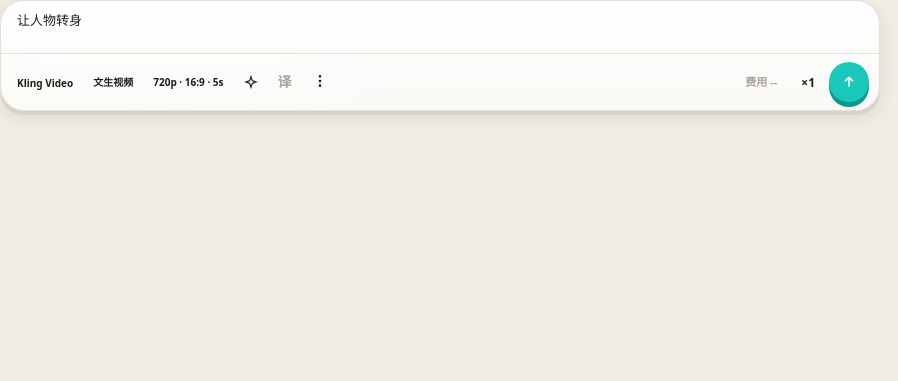
workflow node overlays › disables modes unavailable on the mapped video Provider route
Click the button titled "视频生成方式": [113, 82] box [87, 70, 139, 94]
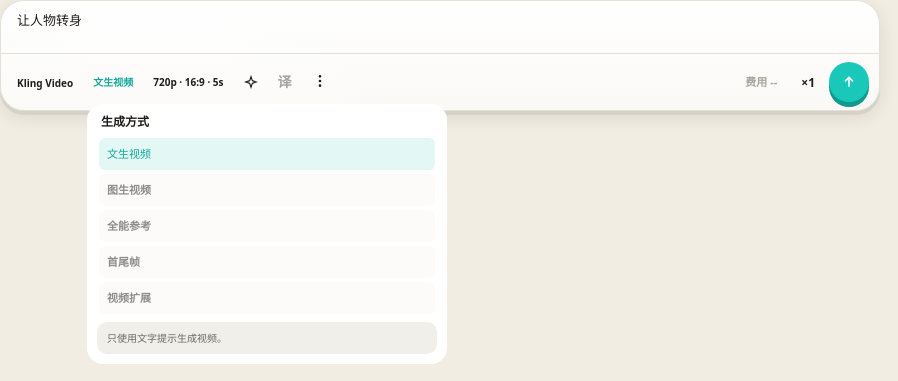
Result: the button "文生视频" below "生成方式" is shown at [99, 138, 435, 170]
Result: the button "图生视频" is shown at [99, 174, 435, 206]
Result: the button "全能参考" is disabled at [99, 210, 435, 242]
